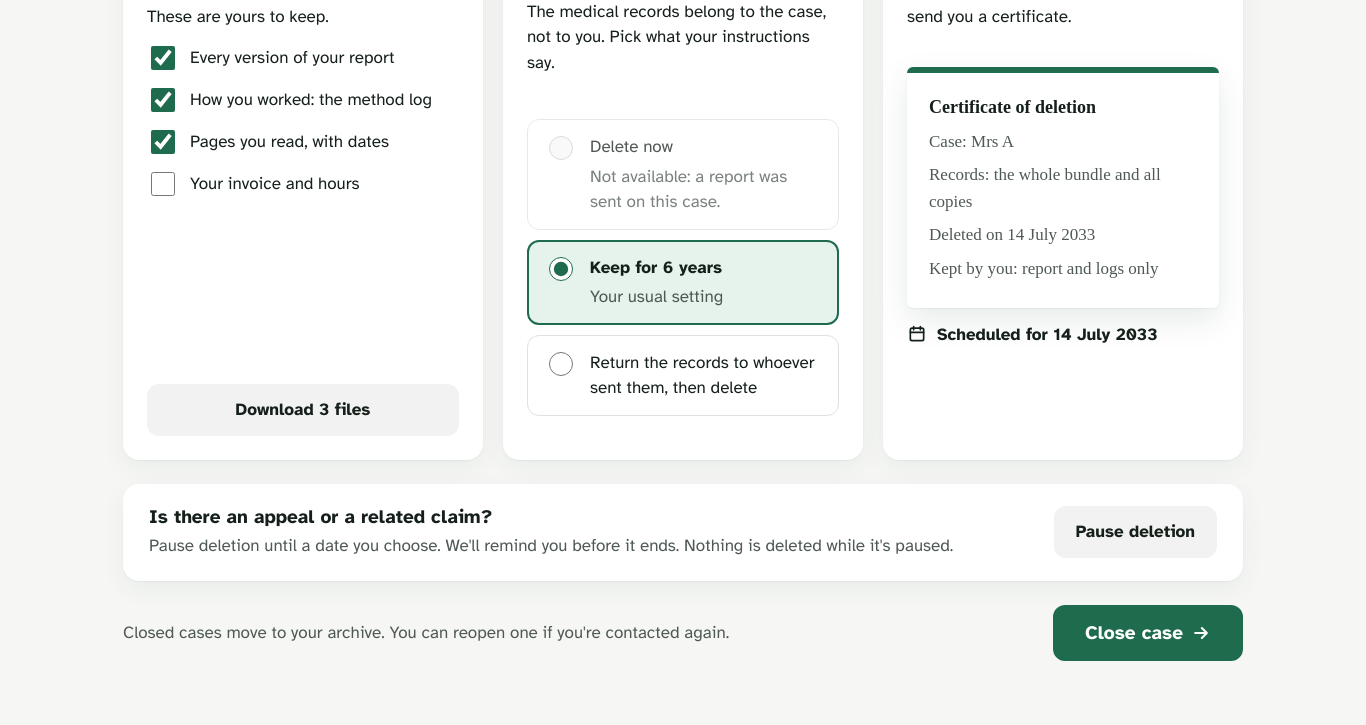
Scenario: files are got ready, then downloaded once
This screenshot has width=1366, height=725.
(page scrolled)
Click the button "Download 3 files" at (303, 410), box [147,384,459,436]
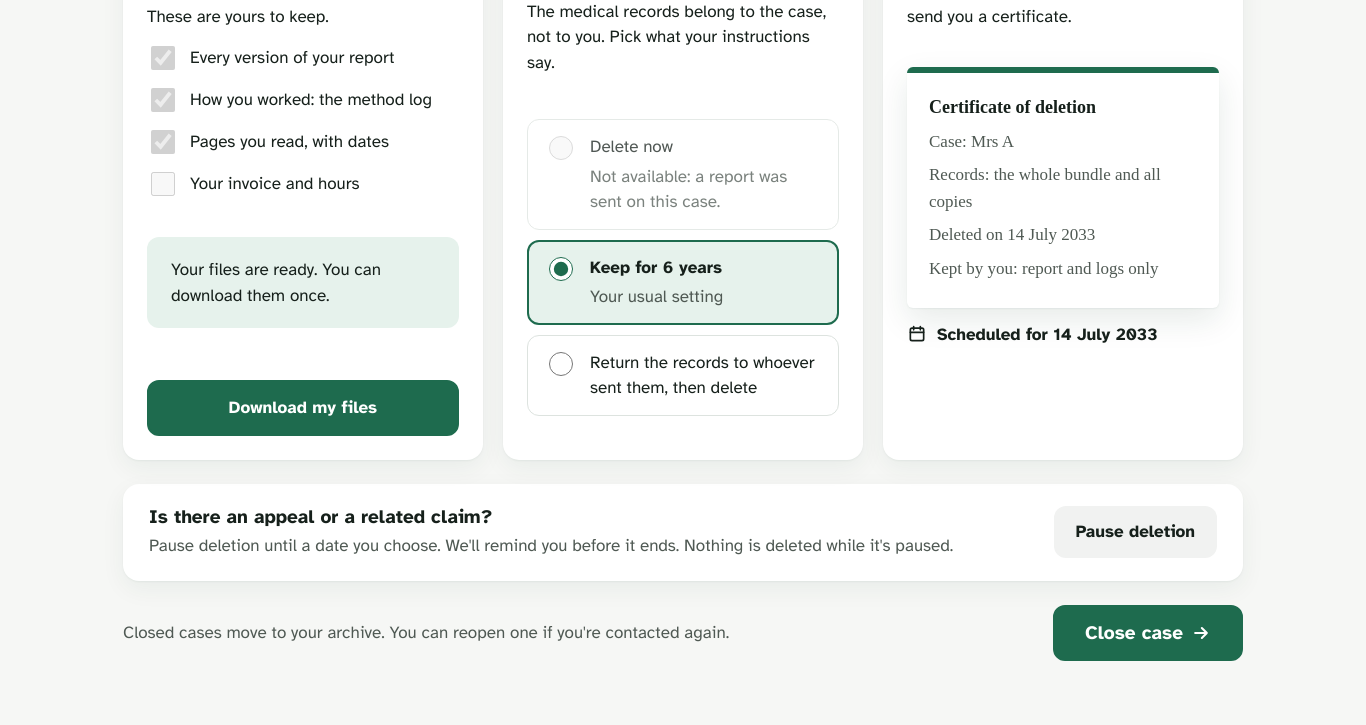
Click the button "Download my files" at (303, 408), box [147,380,459,436]
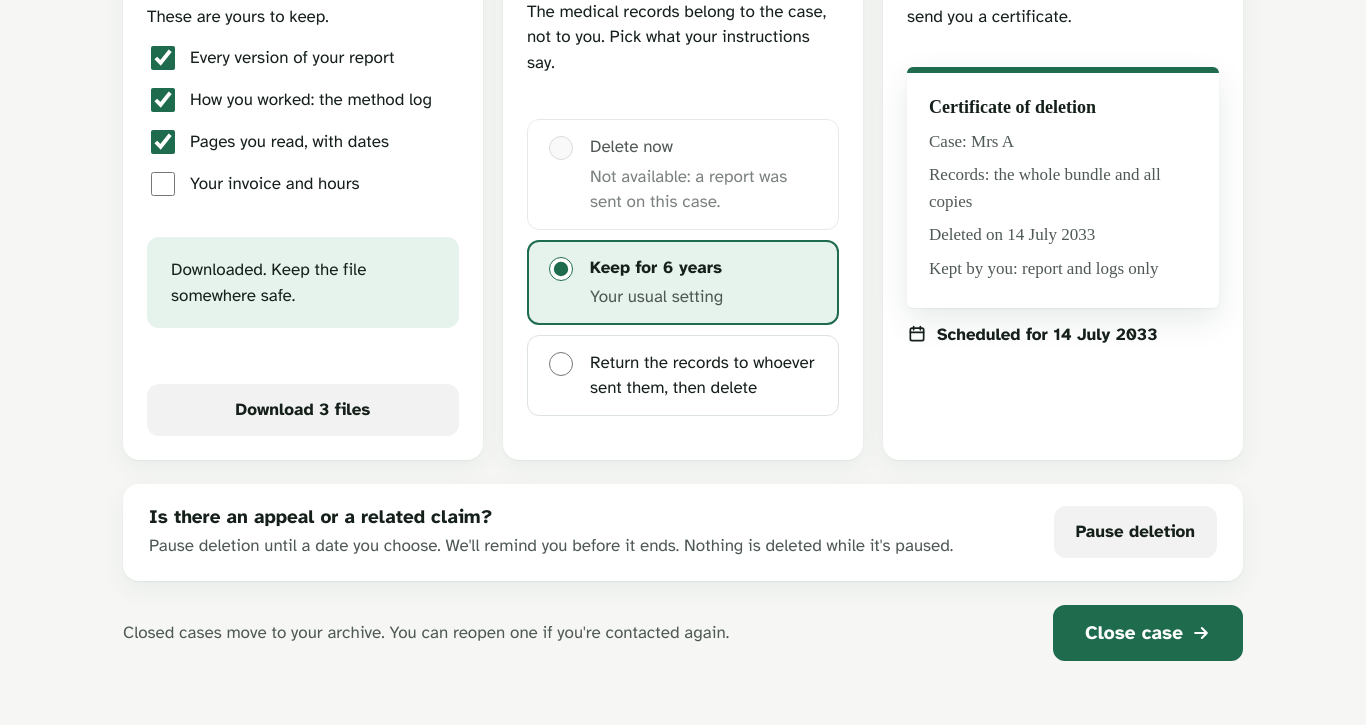
Expected: the text "Downloaded. Keep the file somewhere safe." is shown, [171,259,366,306]
